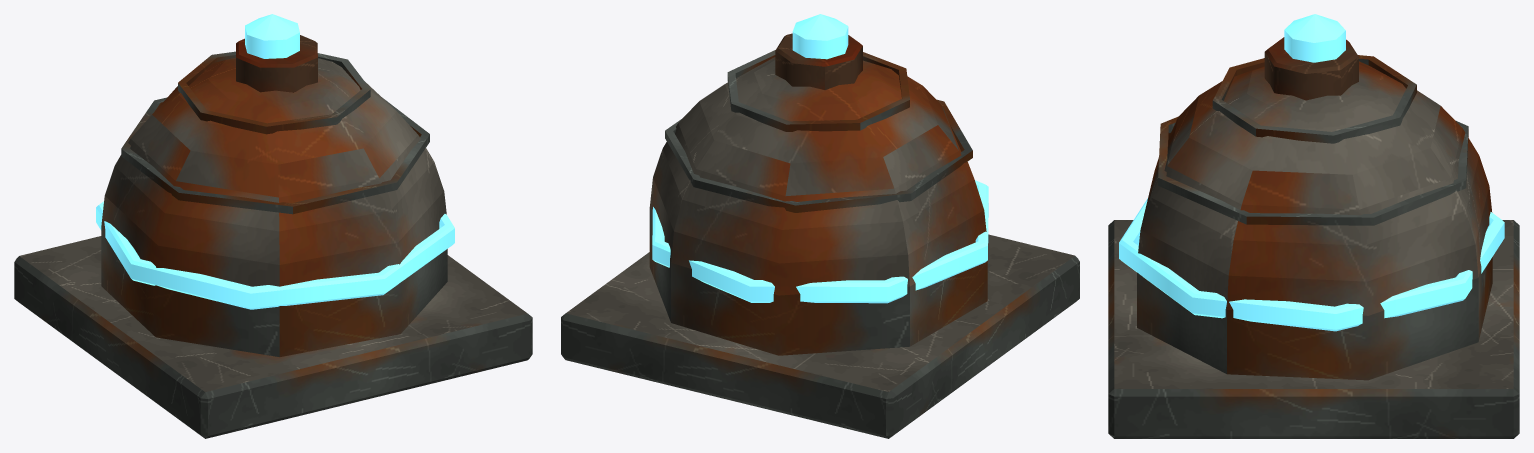
Rendered from R4X_PersonalShield_LOD1.glb.
The picture shows the model from 3 angles, left to right: view 1: azimuth 30°, elevation 25°; view 2: azimuth 150°, elevation 25°; view 3: azimuth 270°, elevation 25°; orthographic projection. The views are drawn at different scales.
Parts seen in each view (by area): view 1: R4X_PersonalShield_LOD1; view 2: R4X_PersonalShield_LOD1; view 3: R4X_PersonalShield_LOD1.
Boxes of the visible parts, x1,y1,x2,y2 form: R4X_PersonalShield_LOD1: (14,14,532,438); R4X_PersonalShield_LOD1: (561,14,1079,438); R4X_PersonalShield_LOD1: (1108,14,1519,438).
Bounding box in the file's own units: 0.52 × 0.475 × 0.52.
4 materials, 3 textured.
